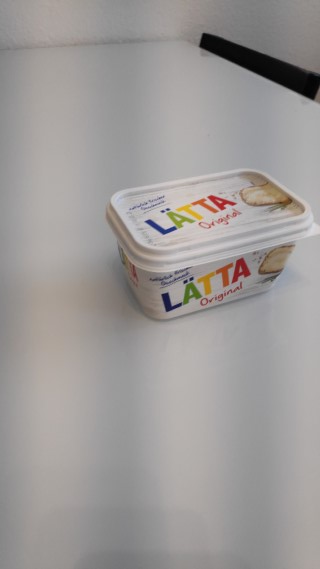laetta: (104, 166, 320, 323)
